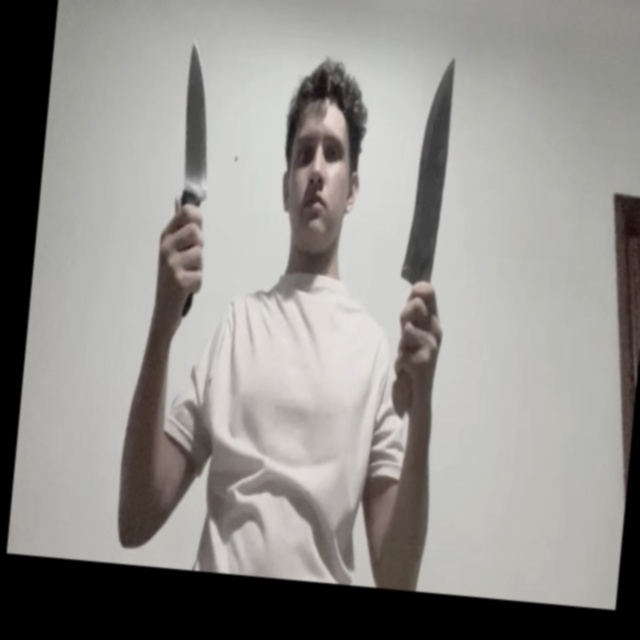Sharp-Object: (401, 50, 458, 282), (175, 39, 219, 194)
